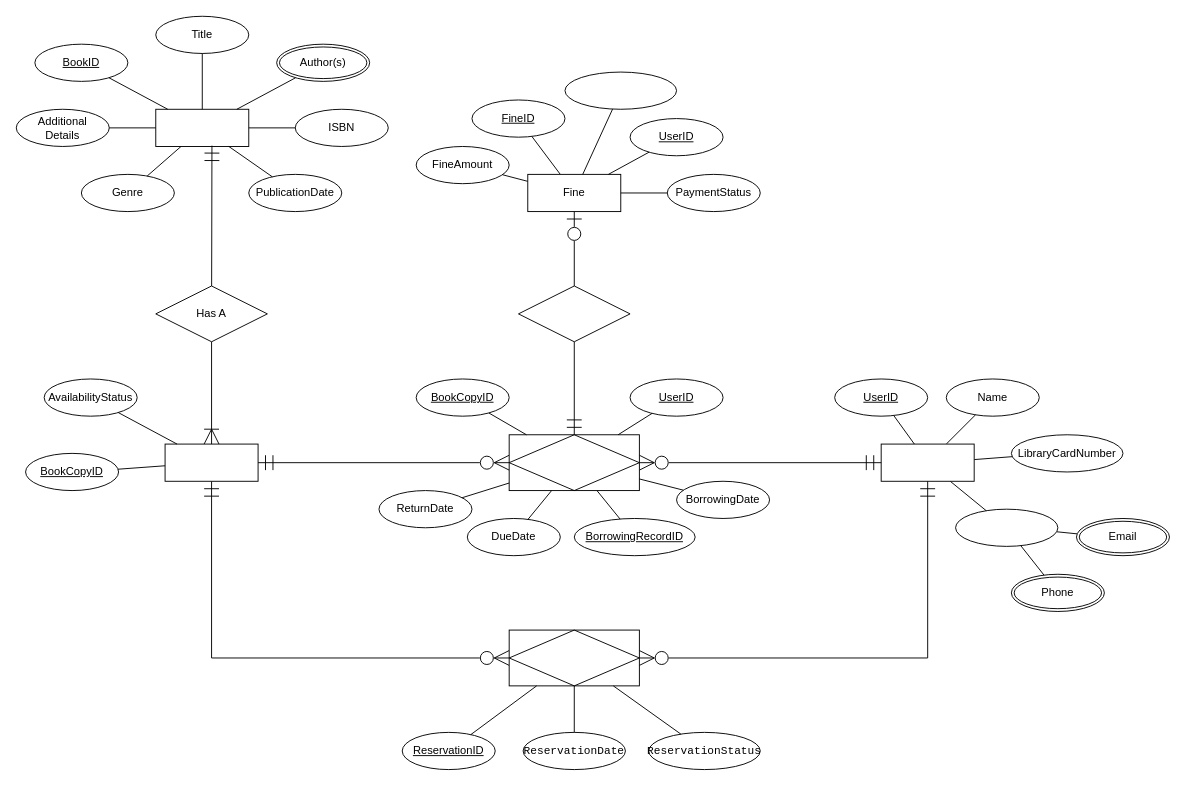
Image size: 1186x786. Some labels were removed from this diagram. The shapes that lost their labels are listed below. From the top down, each one's centre as x and y in pixels, then its label:
At point (620, 90): "NumberOfLateDays".
At point (202, 127): "Book".
At point (574, 313): "Is There A Fine".
At point (211, 462): "BookCopy".
At point (573, 462): "BorrowingRecord".
At point (927, 462): "User".
At point (1006, 527): "ContactInformation".
At point (573, 657): "Reservation".
